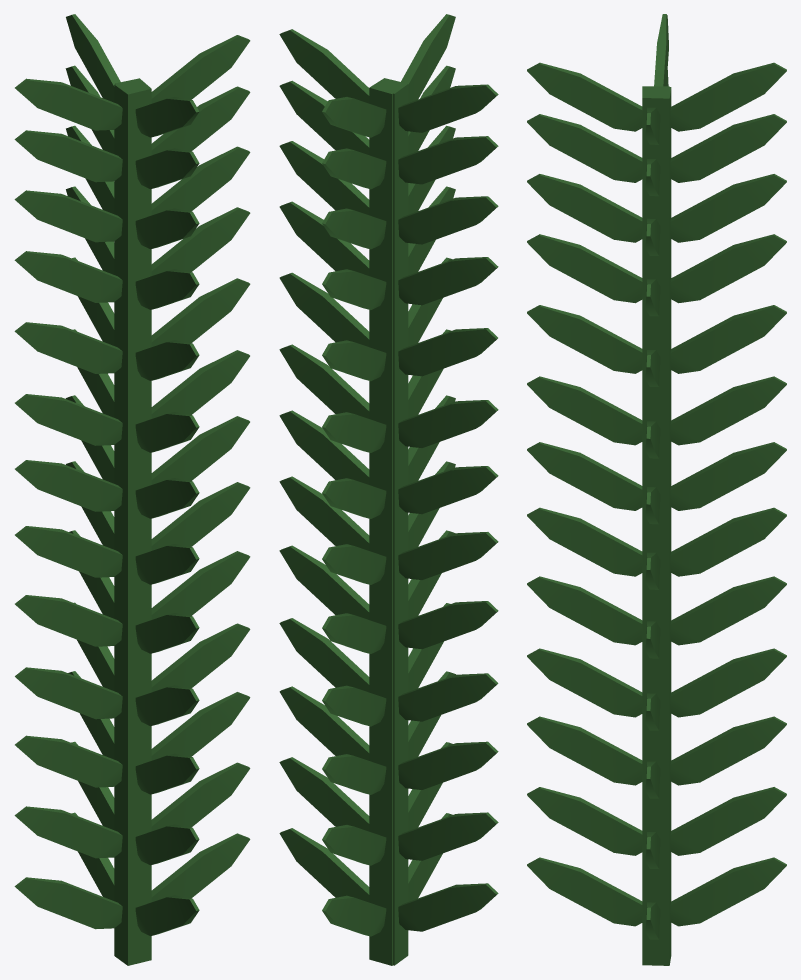
File: SM_KelpPlaceHolder2_M.fbx
3 renders of one model, left to right at view 1: azimuth 30°, elevation 25°; view 2: azimuth 150°, elevation 25°; view 3: azimuth 270°, elevation 25°, orthographic.
Visible parts, largest first — view 1: kelp1; view 2: kelp1; view 3: kelp1.
Boxes of the visible parts, x1,y1,x2,y2 form: kelp1: (14,14,250,965); kelp1: (279,14,498,965); kelp1: (527,14,786,965).
Size of the model in its own units: 135 by 513 by 135.
